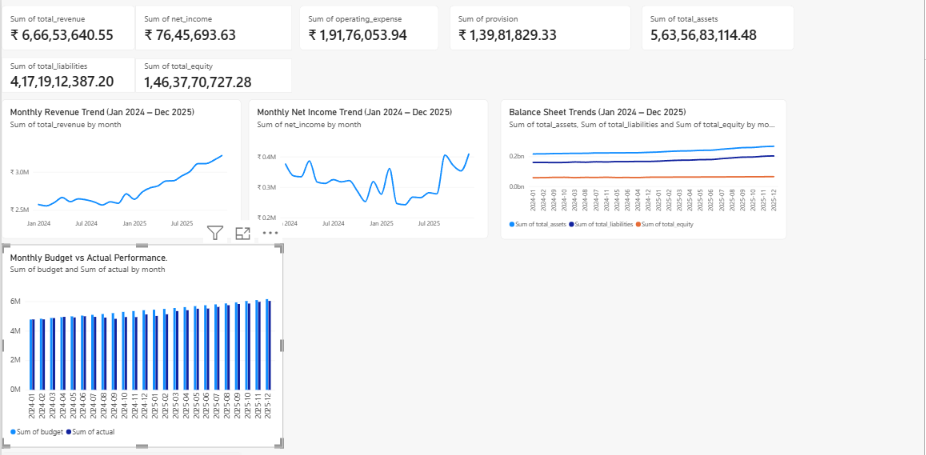

What the dashboard file says about the page in this screenshot:
{"tool":"powerbi","page":{"name":"Finance Dashboard","canvas":[1920,1080],"ordinal":0},"visuals":[{"type":"cardVisual","fields":{"Data":["Sum(da04_finance v_pnl_monthly.total_revenue)"]},"box":[0,14.5,267.8,90.5],"z":0},{"type":"cardVisual","fields":{"Data":["Sum(da04_finance v_pnl_monthly.net_income)"]},"box":[267.8,14.5,313.1,90.5],"z":1},{"type":"cardVisual","fields":{"Data":["Sum(da04_finance v_bs_summary.total_assets)"]},"box":[1279.4,14.5,305.8,90.5],"z":2},{"type":"cardVisual","fields":{"Data":["Sum(da04_finance v_bs_summary.total_equity)"]},"box":[267.8,119.4,313.1,68.8],"z":3},{"type":"cardVisual","fields":{"Data":["Sum(da04_finance v_pnl_monthly.operating_expense)"]},"box":[595.4,14.5,278.7,90.5],"z":4},{"type":"cardVisual","fields":{"Data":["Sum(da04_finance v_pnl_monthly.provision)"]},"box":[895.8,14.5,363.7,90.5],"z":5},{"type":"cardVisual","fields":{"Data":["Sum(da04_finance v_bs_summary.total_liabilities)"]},"box":[0,117.6,267.8,70.6],"z":6},{"type":"lineChart","title":"Monthly Revenue Trend (Jan 2024 – Dec 2025)","fields":{"Category":["da04_finance v_pnl_monthly.month"],"Y":["Sum(da04_finance v_pnl_monthly.total_revenue)"]},"box":[0,202.7,479.6,278.7],"z":7},{"type":"lineChart","title":"Monthly Net Income Trend (Jan 2024 – Dec 2025)","fields":{"Category":["da04_finance v_pnl_monthly.month"],"Y":["Sum(da04_finance v_pnl_monthly.net_income)"]},"box":[494,202.7,479.6,278.7],"z":8},{"type":"lineChart","title":"Balance Sheet Trends (Jan 2024 – Dec 2025)","fields":{"Category":["da04_finance v_bs_summary.month"],"Y":["Sum(da04_finance v_bs_summary.total_assets)","Sum(da04_finance v_bs_summary.total_liabilities)","Sum(da04_finance v_bs_summary.total_equity)"]},"box":[998,202,572,280],"z":9},{"type":"clusteredColumnChart","title":"Monthly Budget vs Actual Performance.","fields":{"Category":["da04_finance v_budget_vs_actual.month"],"Y":["Sum(da04_finance v_budget_vs_actual.budget)","Sum(da04_finance v_budget_vs_actual.actual)"]},"box":[0,492,564,406],"z":10}]}

Visuals, with their boxes in screenshot pixels (x1, y1, x2, y2):
cardVisual - Sum(da04_finance v_pnl_monthly.total_revenue): left=31, top=37, right=139, bottom=73
cardVisual - Sum(da04_finance v_pnl_monthly.net_income): left=139, top=37, right=265, bottom=73
cardVisual - Sum(da04_finance v_bs_summary.total_assets): left=545, top=37, right=668, bottom=73
cardVisual - Sum(da04_finance v_bs_summary.total_equity): left=139, top=79, right=265, bottom=107
cardVisual - Sum(da04_finance v_pnl_monthly.operating_expense): left=270, top=37, right=382, bottom=73
cardVisual - Sum(da04_finance v_pnl_monthly.provision): left=391, top=37, right=537, bottom=73
cardVisual - Sum(da04_finance v_bs_summary.total_liabilities): left=31, top=79, right=139, bottom=107
"Monthly Revenue Trend (Jan 2024 – Dec 2025)" lineChart: left=31, top=113, right=224, bottom=225
"Monthly Net Income Trend (Jan 2024 – Dec 2025)" lineChart: left=230, top=113, right=422, bottom=225
"Balance Sheet Trends (Jan 2024 – Dec 2025)" lineChart: left=432, top=112, right=662, bottom=225
"Monthly Budget vs Actual Performance." clusteredColumnChart: left=31, top=229, right=258, bottom=392
